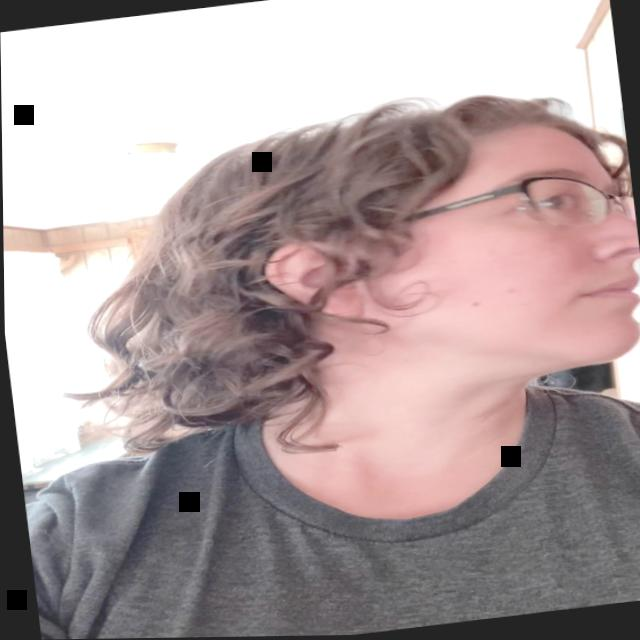NO-Mask: (345, 108, 640, 395)
